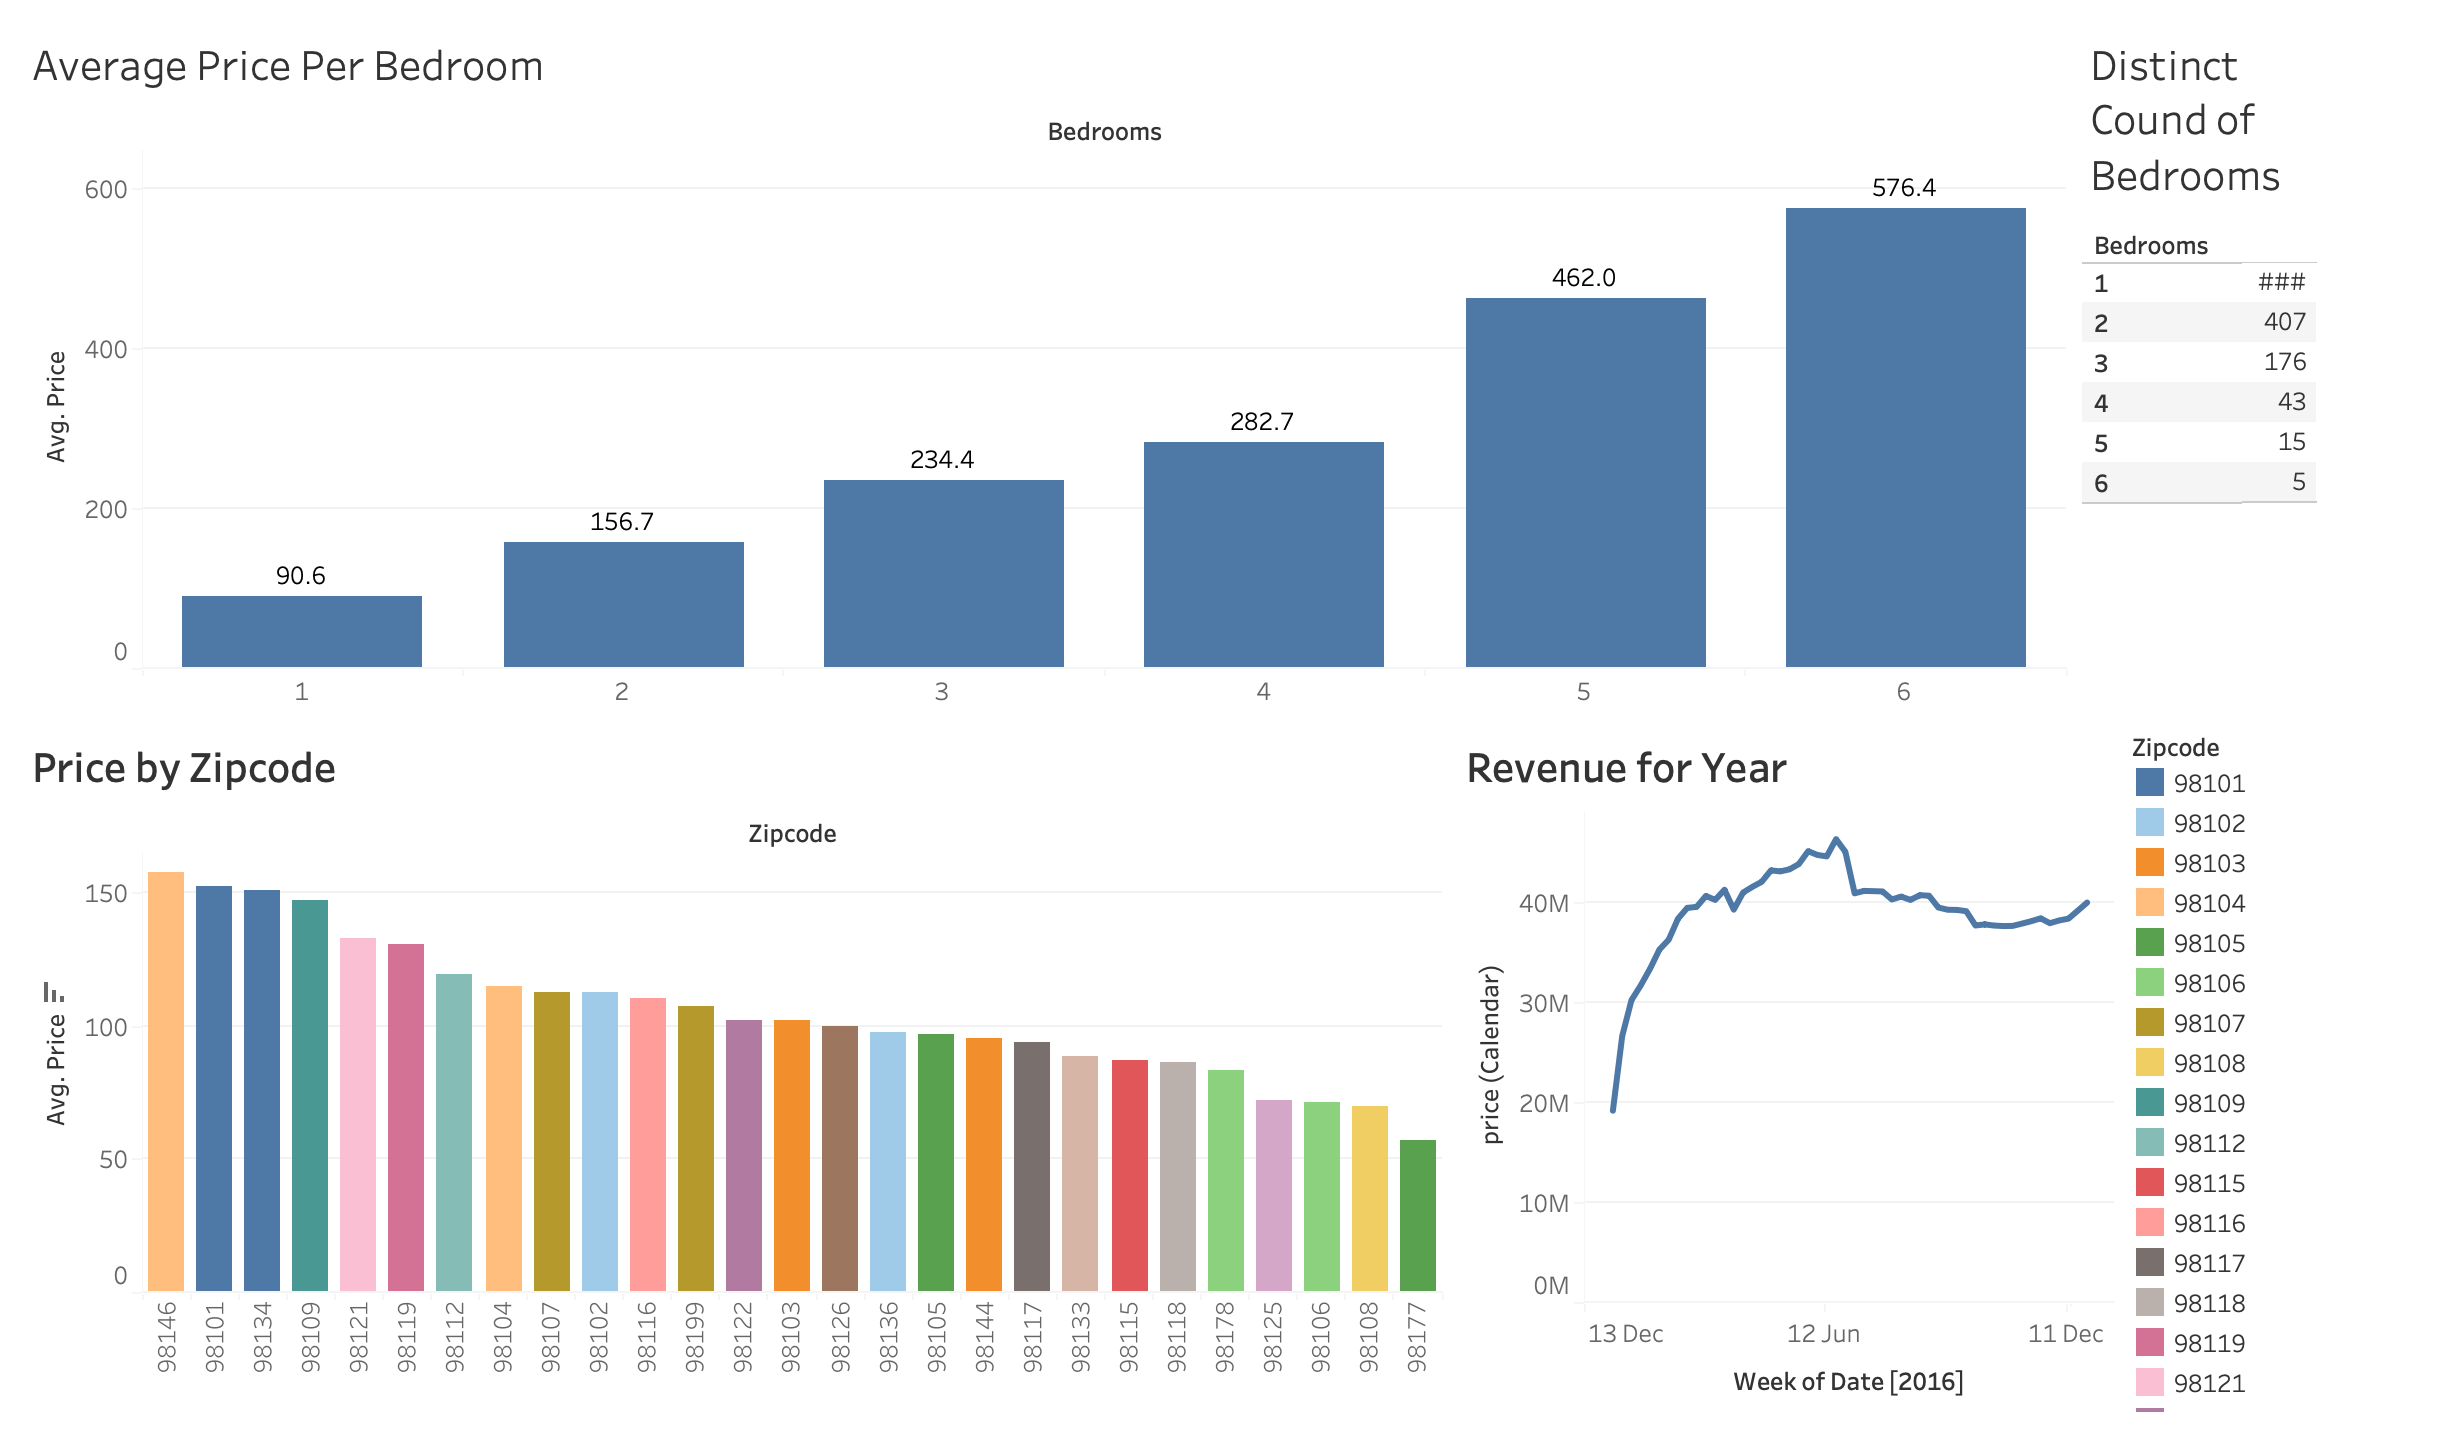

This screenshot's page, from the dashboard's own definition file:
{"tool":"tableau","page":{"name":"Dashboard 1","canvas":[1000,1000],"units":"permille","ordinal":0},"visuals":[{"type":"worksheet","title":"Sheet 10","mark":"Automatic","rows":["price"],"cols":["bedrooms"],"box":[6.5,9.9,837.3,490.1]},{"type":"worksheet","title":"Sheet 11","mark":"Automatic","rows":["bedrooms"],"box":[843.8,9.9,149.7,490.1]},{"type":"worksheet","title":"Sheet 7","mark":"Automatic","rows":["price"],"cols":["zipcode"],"box":[6.5,500,583.4,490.1]},{"type":"worksheet","title":"Sheet 9","mark":"Automatic","rows":["price (Calendar)"],"cols":["date"],"box":[589.9,500,273.4,490.1]},{"type":"legend","title":"Sheet 7","param":"[federated.1iwz59o09xnimv1dw6v0x09y0oj1].[none:zipcode:ok]","box":[863.3,500,130.2,490.1]}]}

Visuals, with their boxes on the dashboard's canvas, which has no fixed pixel size, in thousandths of its width and height (x1, y1, x2, y2). These are canvas units, not pixel positions in the 2458x1436 screenshot, which may show the page scaled, cropped or inside an application window:
"Sheet 10" worksheet: detection(6, 10, 844, 500)
"Sheet 11" worksheet: detection(844, 10, 994, 500)
"Sheet 7" worksheet: detection(6, 500, 590, 990)
"Sheet 9" worksheet: detection(590, 500, 863, 990)
"Sheet 7" legend: detection(863, 500, 994, 990)
